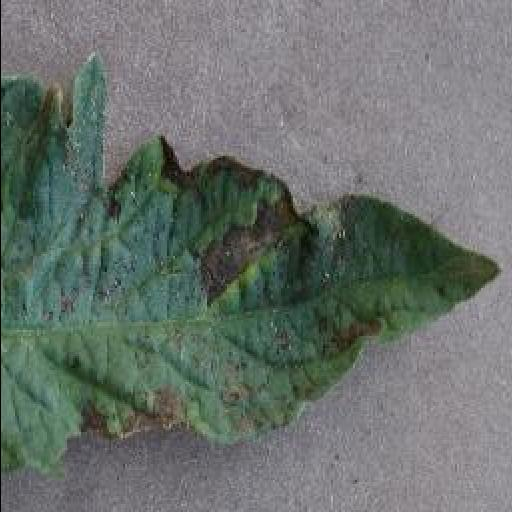disease_tomato: (0, 54, 502, 475)
